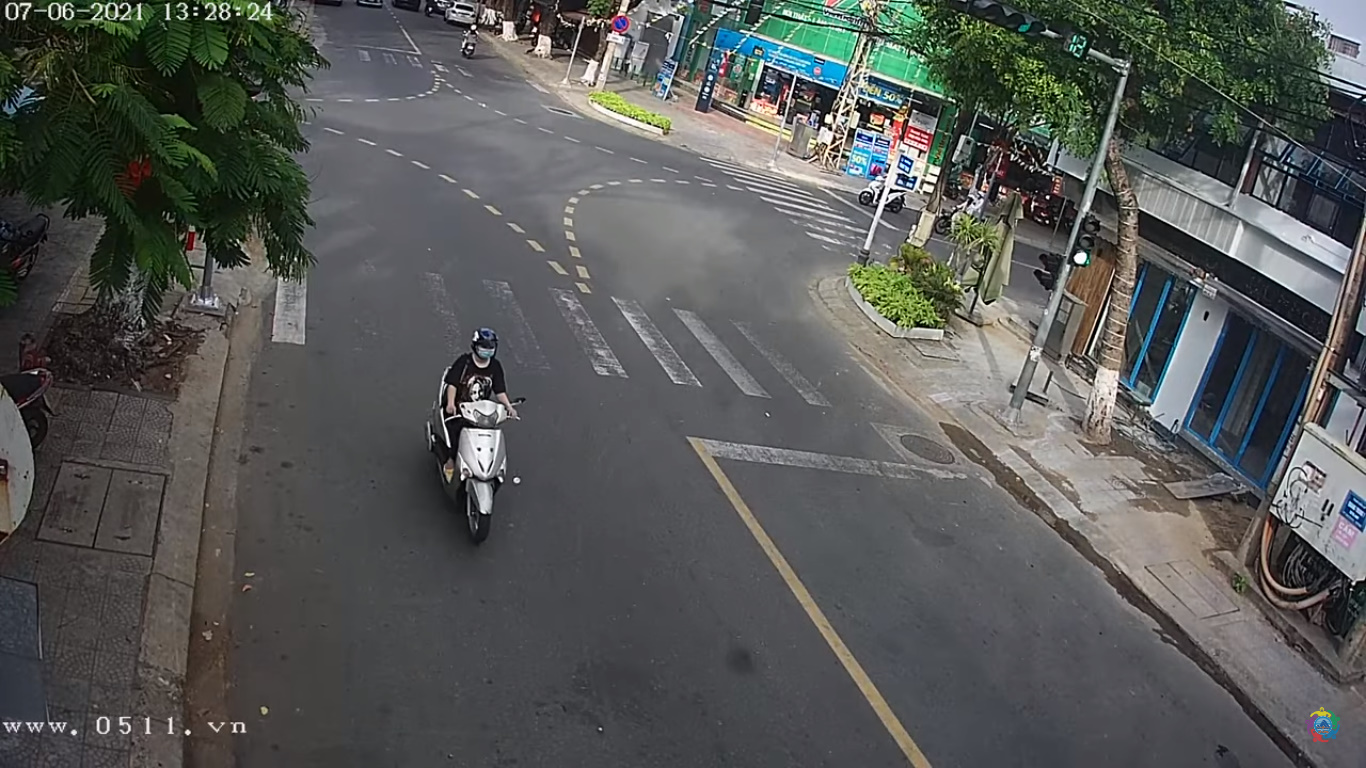motorbike: (428, 326, 529, 541)
